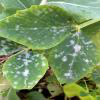Squash Powdery mildew leaf: (0, 4, 81, 51), (47, 29, 99, 86), (0, 48, 50, 91)
